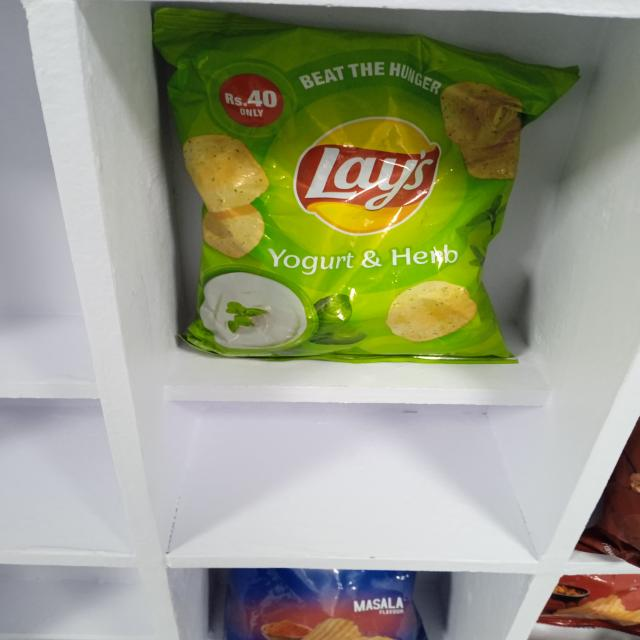Plastic: (156, 23, 525, 360), (226, 566, 418, 640)
